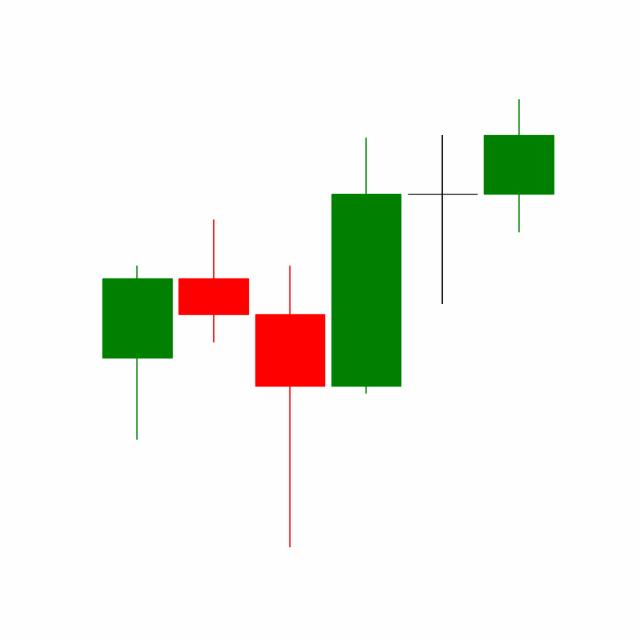Spinning Top: (403, 132, 481, 306)
